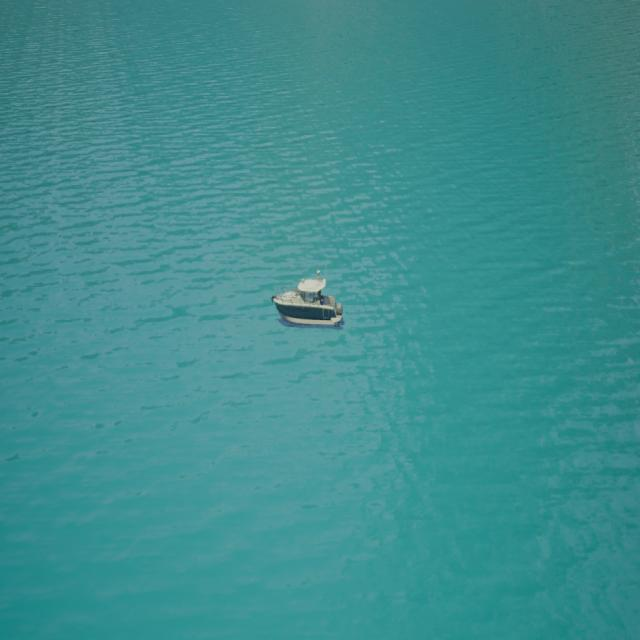ship: (271, 269, 344, 327)
